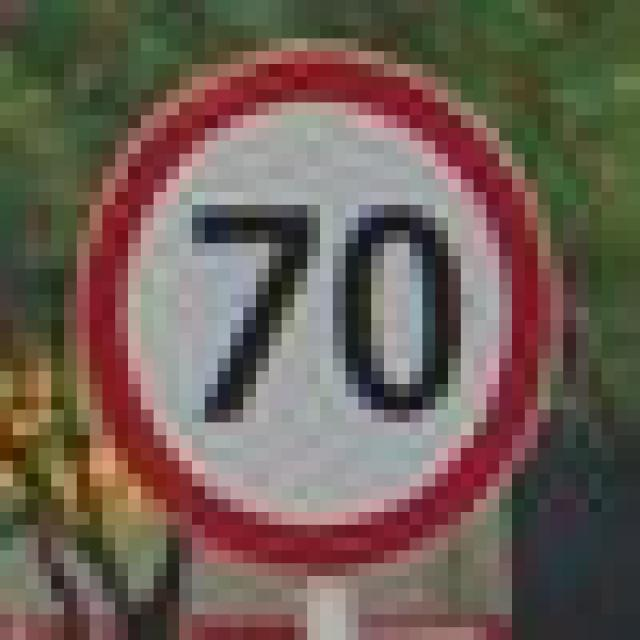SPEED_LIMIT_70: (51, 26, 563, 550)
